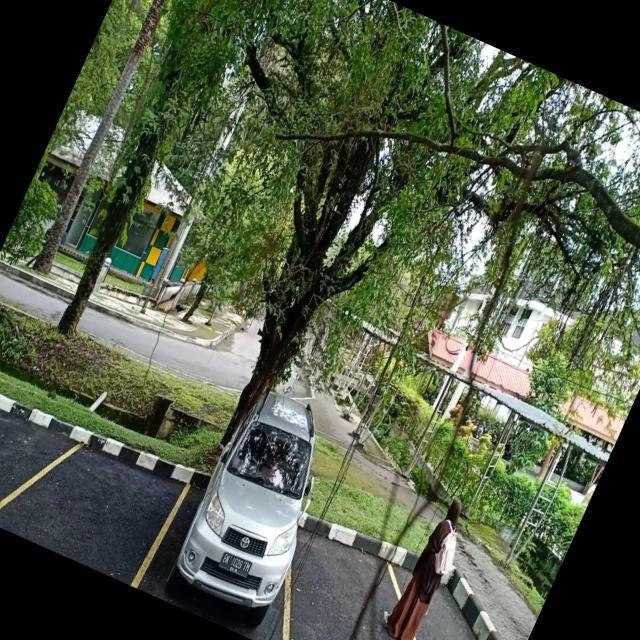empty: (5, 408, 194, 590), (266, 510, 465, 640), (0, 363, 60, 530)
occupied: (137, 452, 332, 640)
